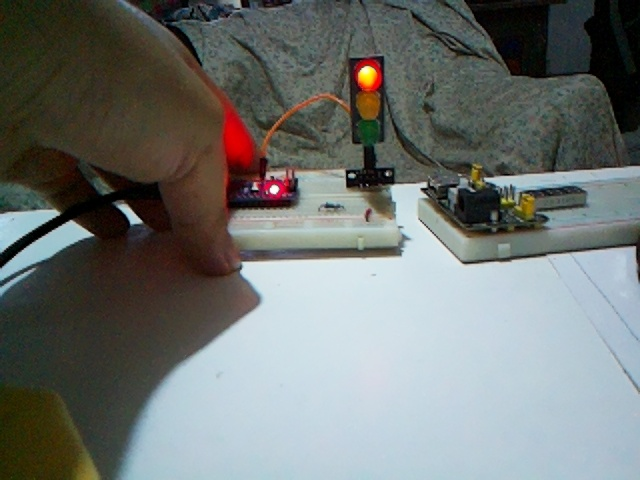traffic_light_red: (349, 55, 385, 145)
